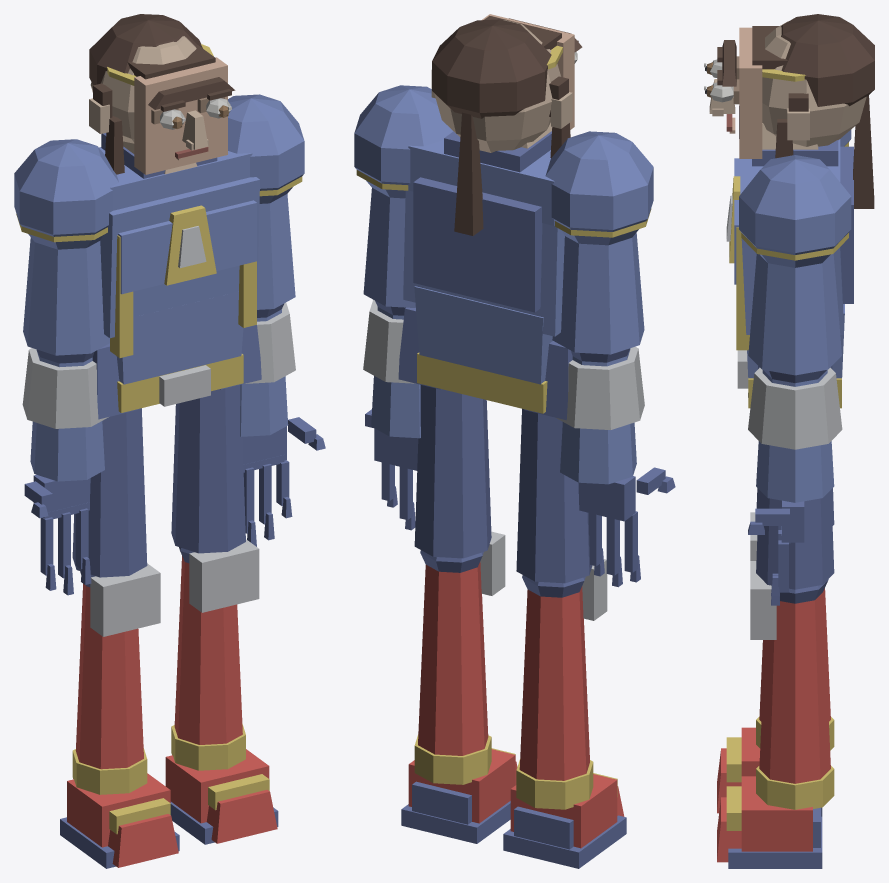
File: amazon.glb
3 views of the same model, side by side, from view 1: azimuth 30°, elevation 25°; view 2: azimuth 150°, elevation 25°; view 3: azimuth 270°, elevation 25° (orthographic). The views are drawn at different scales.
Visible parts, largest first — view 1: torso, head, upperArmL, lowerLegL, lowerLegR, upperLegR, upperArmR, lowerArmL, upperLegL, footL, footR, hips (+3 smaller); view 2: torso, upperArmL, head, lowerLegR, lowerLegL, upperLegR, upperArmR, upperLegL, lowerArmL, footL, hips, footR (+3 smaller); view 3: head, upperArmR, lowerLegR, lowerArmR, footR, torso, upperLegR, handR, footL, lowerLegL, hips.
Boxes of the visible parts, box(x1,y1,x2,y2) form: torso: box(99, 133, 259, 384); head: box(89, 14, 235, 174); upperArmL: box(14, 139, 118, 363); lowerLegL: box(72, 563, 160, 794); lowerLegR: box(171, 539, 259, 770); upperLegR: box(171, 385, 245, 563); upperArmR: box(228, 94, 304, 317); lowerArmL: box(22, 348, 108, 481); upperLegL: box(72, 408, 147, 587); footL: box(60, 773, 179, 868); footR: box(165, 749, 278, 844); hips: box(92, 325, 261, 419); torso: box(403, 131, 564, 384); upperArmL: box(545, 131, 653, 362); head: box(431, 14, 582, 235); lowerLegR: box(414, 531, 505, 784); lowerLegL: box(516, 559, 607, 809); upperLegR: box(414, 385, 491, 572); upperArmR: box(354, 85, 453, 315); upperLegL: box(516, 408, 592, 597); lowerArmL: box(556, 346, 644, 484); footL: box(503, 773, 626, 868); hips: box(398, 307, 572, 420); footR: box(401, 748, 517, 843); head: box(704, 14, 874, 208); upperArmR: box(739, 155, 851, 383); lowerLegR: box(750, 561, 834, 809); lowerArmR: box(748, 367, 842, 502); footR: box(717, 776, 822, 868); torso: box(726, 139, 853, 378); upperLegR: box(756, 490, 834, 603); handR: box(748, 500, 804, 605); footL: box(717, 727, 822, 816); lowerLegL: box(750, 512, 834, 750); hips: box(737, 350, 841, 408).
Bounding box in the file's own units: 0.6081 × 1.61 × 0.3099.
